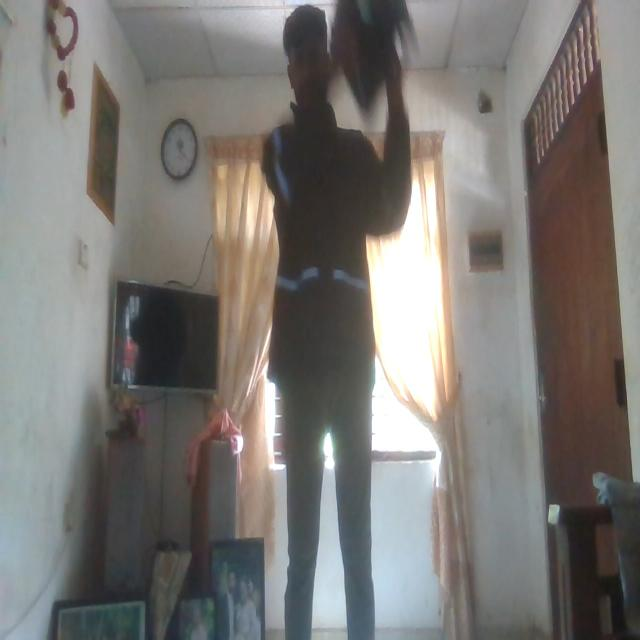Jacket_Wearer: (252, 107, 412, 413)
Person: (244, 2, 414, 636)
